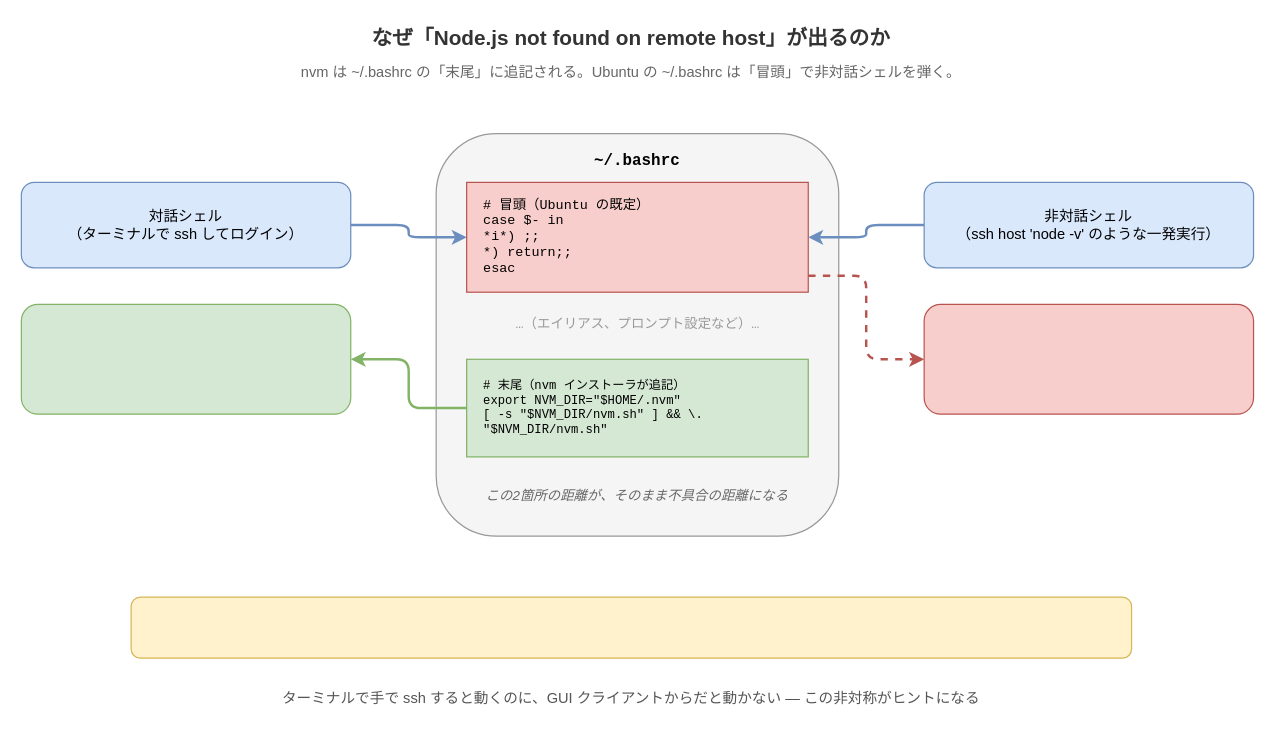
Image size: 1275x734. Some labels were removed from this diagram. Each missing label, with the centre of its shape:
✅ $- に i が含まれる → 素通り 末尾の nvm まで到達する node -v が動く: [185,358]
❌ $- に i が無い → return 末尾の nvm を読まずに終了 PATH に node が入らない: [1088,358]
対処：ログインシェルでも読まれる ~/.profile に nvm の読み込みを書く（対話判定より前で評価される場所に置く）: [631,627]
